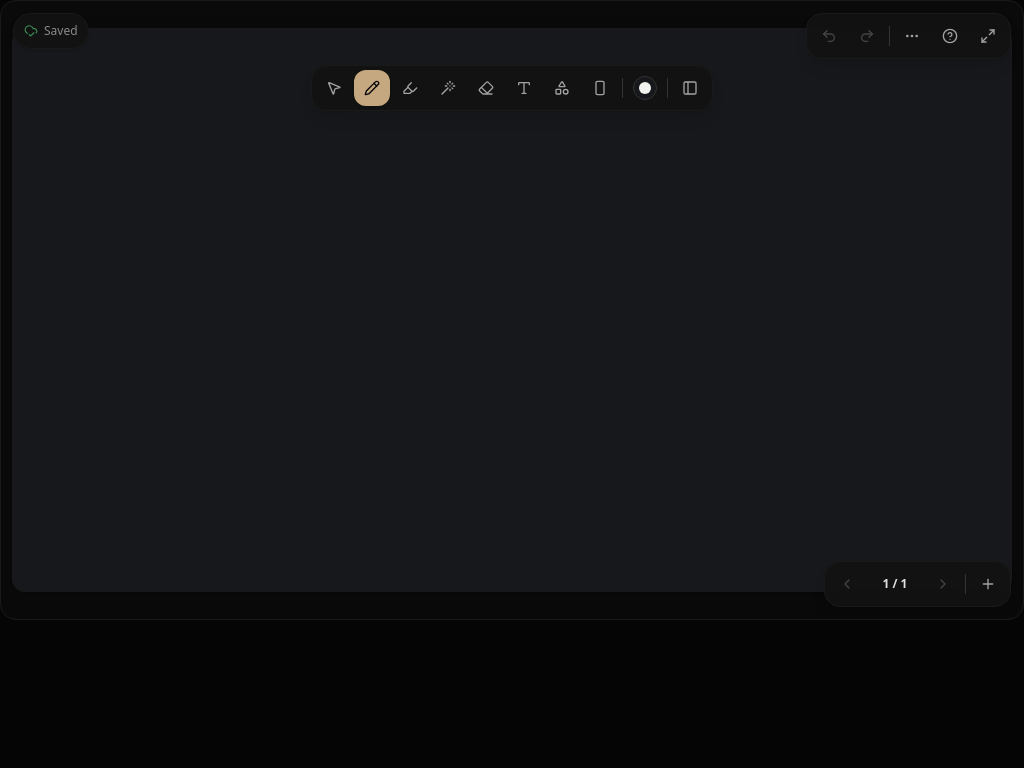
Scenario: Board layout and preferences › CT07 / CA08: clear page asks for confirmation and Cancel keeps the page
The image size is (1024, 768).
Click the button named "More options".
click(912, 36)  # box [894,18,930,54]
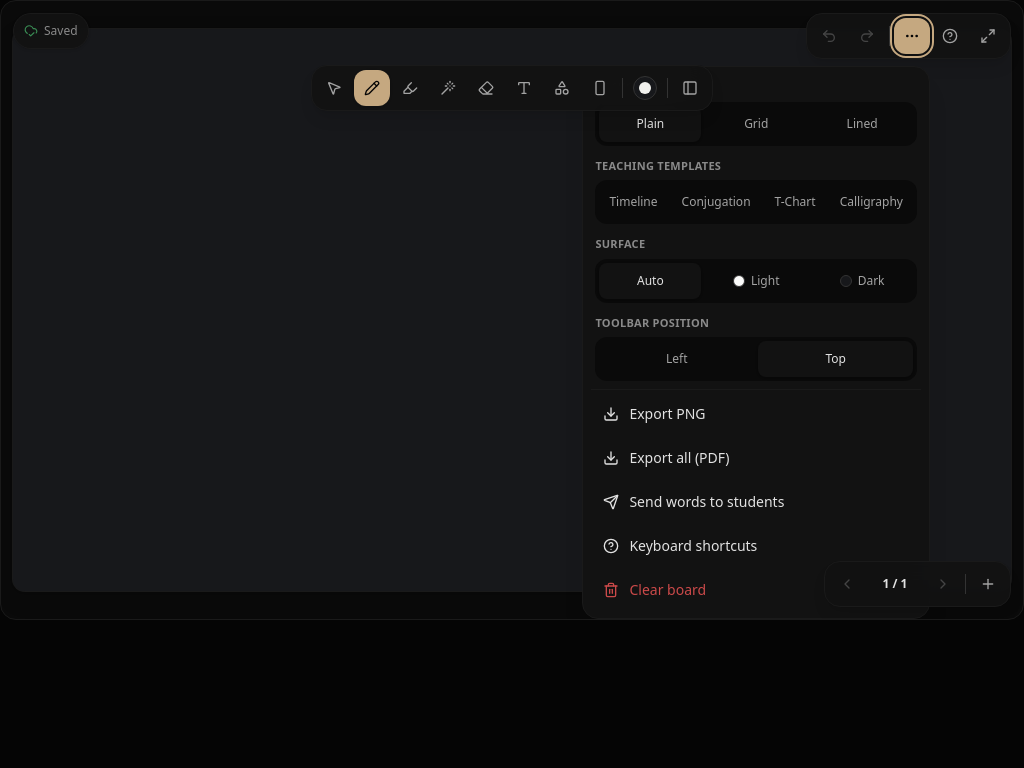
Click the button "Clear board".
click(668, 590)  # box [591,570,921,610]
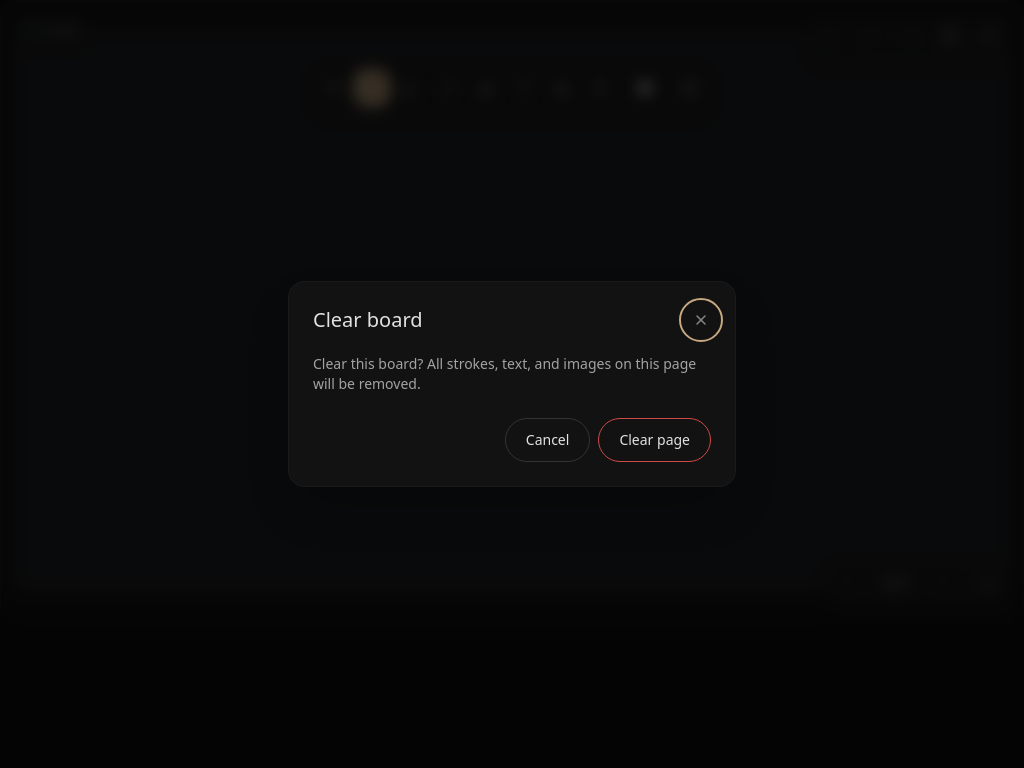
Result: the dialog "Clear board" is shown at [288,281,736,487]
Click the button "Cancel".
click(548, 440)  # box [505,418,590,462]
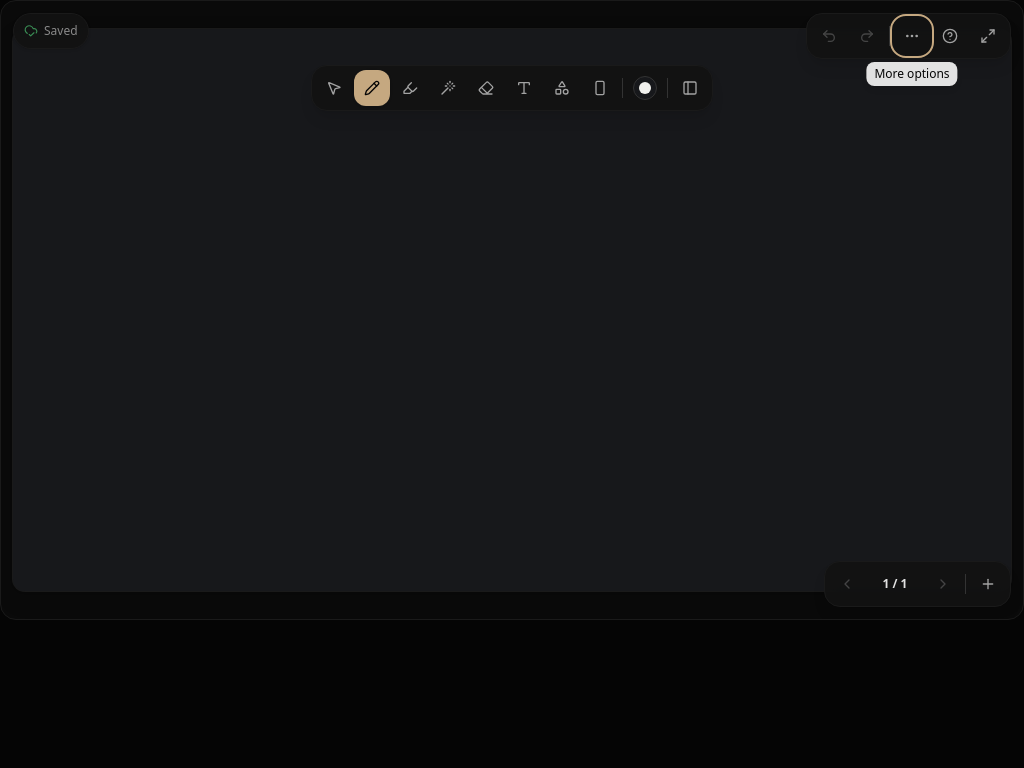
Expected: the button named "Undo" is disabled, [811,18,847,54]
Result: the heading "Clear board" is gone
